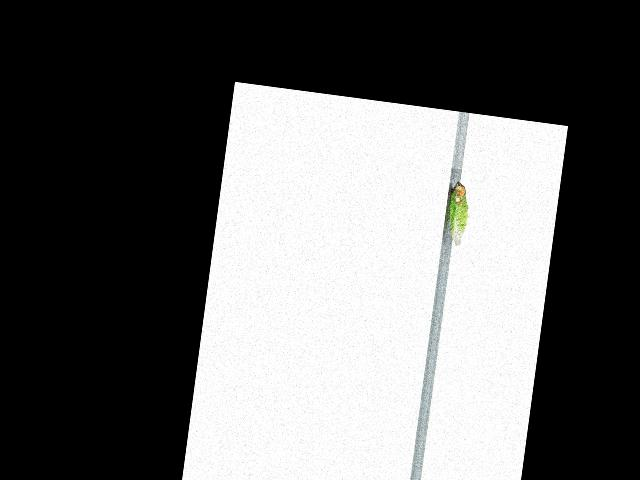lettuce: (441, 178, 474, 248)
